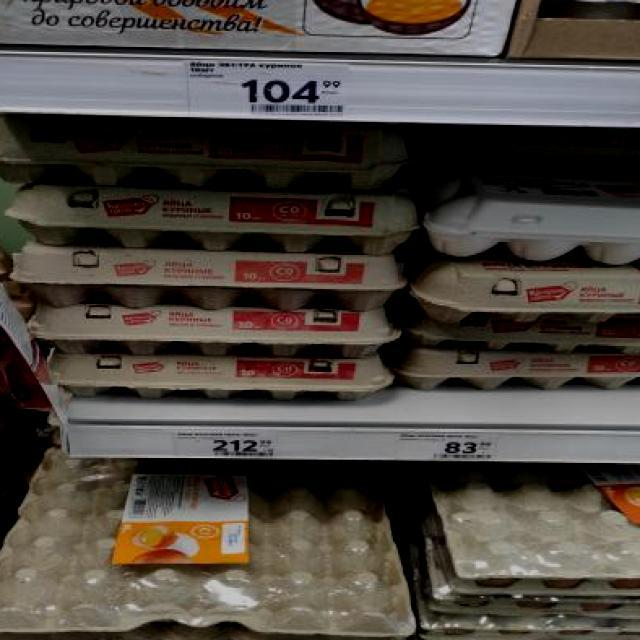Eggs: (0, 112, 416, 187), (4, 188, 420, 252), (9, 250, 407, 306), (26, 306, 403, 358), (427, 176, 640, 266), (44, 354, 396, 400), (396, 346, 640, 390), (399, 308, 640, 349)
